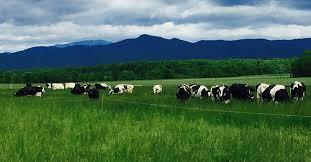cow: (258, 84, 286, 103), (209, 84, 232, 107), (289, 81, 306, 103), (189, 85, 211, 102), (176, 84, 192, 104), (14, 86, 45, 96), (107, 84, 134, 95), (85, 88, 100, 100), (152, 84, 162, 95), (51, 83, 64, 89), (65, 83, 75, 88)
